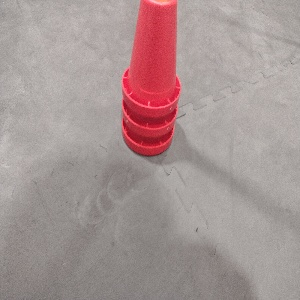Red_3: (120, 0, 181, 158)
